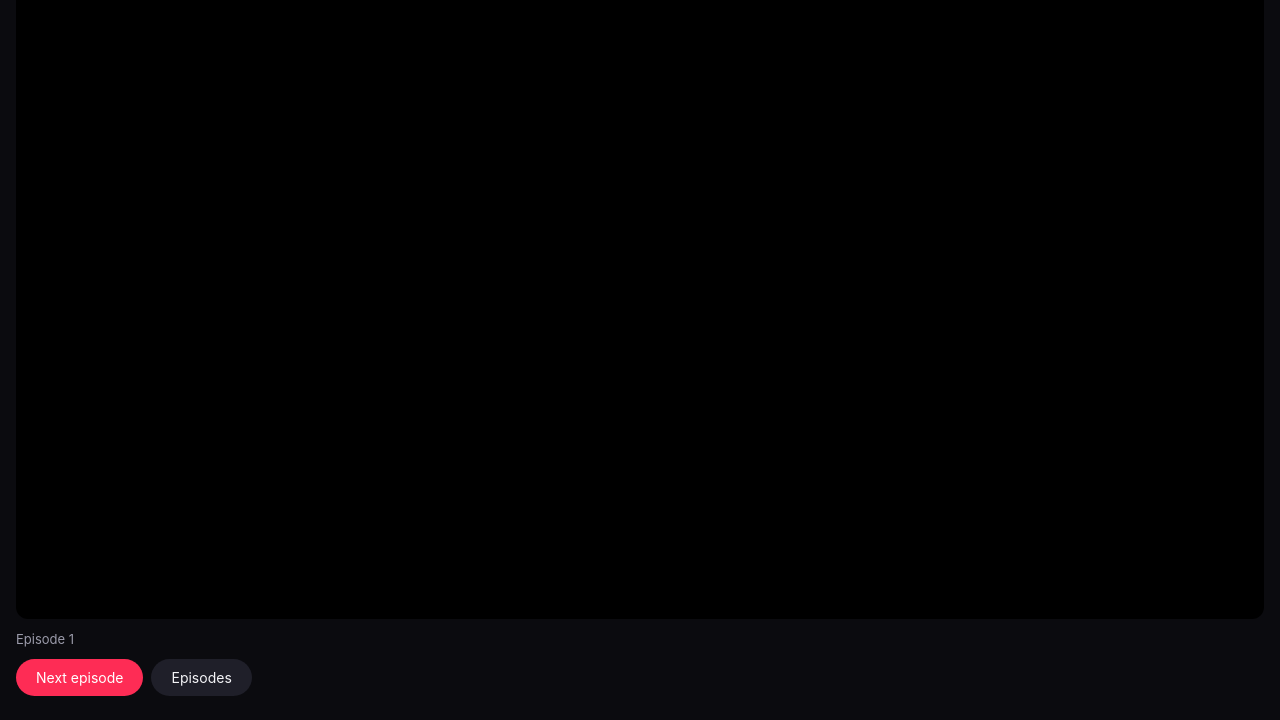
locked episodes are intercepted at every entry › sessions a picker destination rather than playing the previous episode
The width and height of the screenshot is (1280, 720).
Later steps or results of the test are not shown.
(page scrolled)
Click the button with test id "episode-picker-open" at (202, 678), box [152,659,252,696]
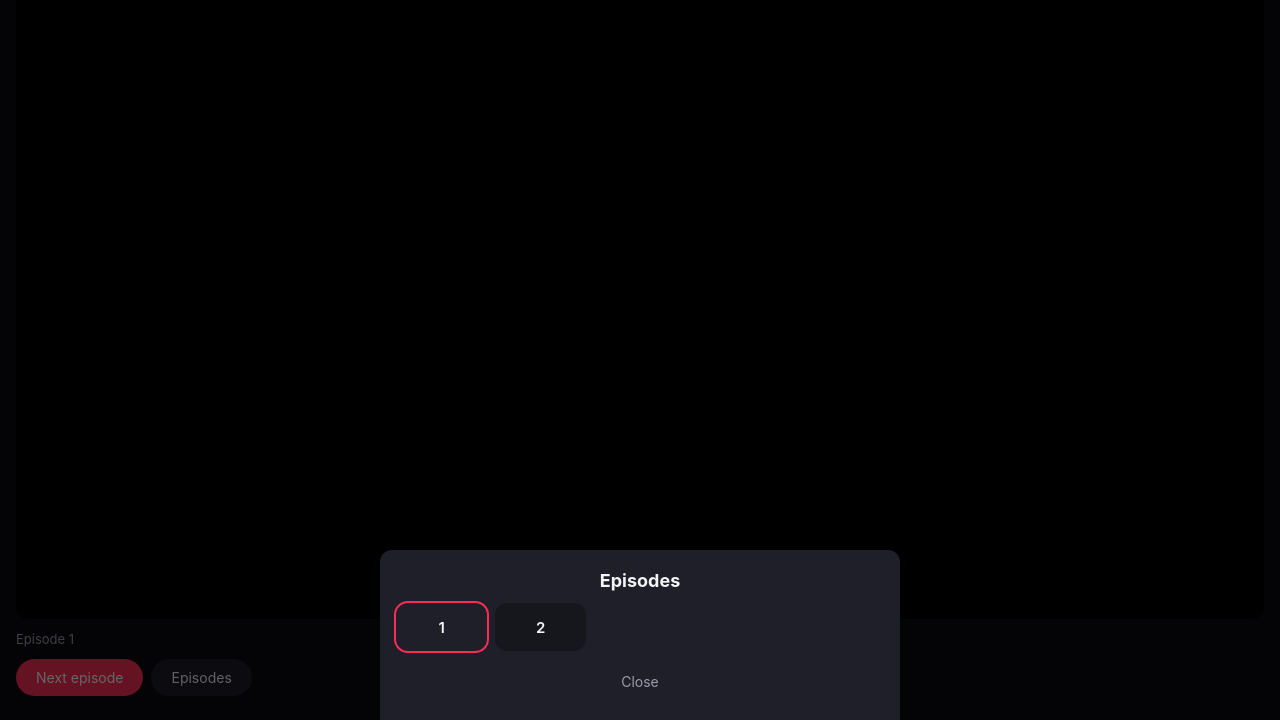
Result: the list with test id "episode-picker-grid" is shown at [396,603,586,651]
Result: the link with test id "episode-picker-cell" showing "2" is shown at [495,603,586,651]
